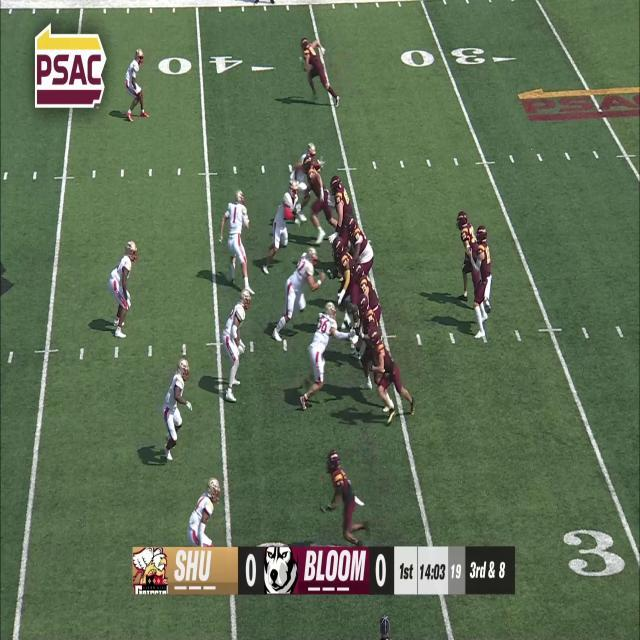football: (465, 246, 473, 261)
